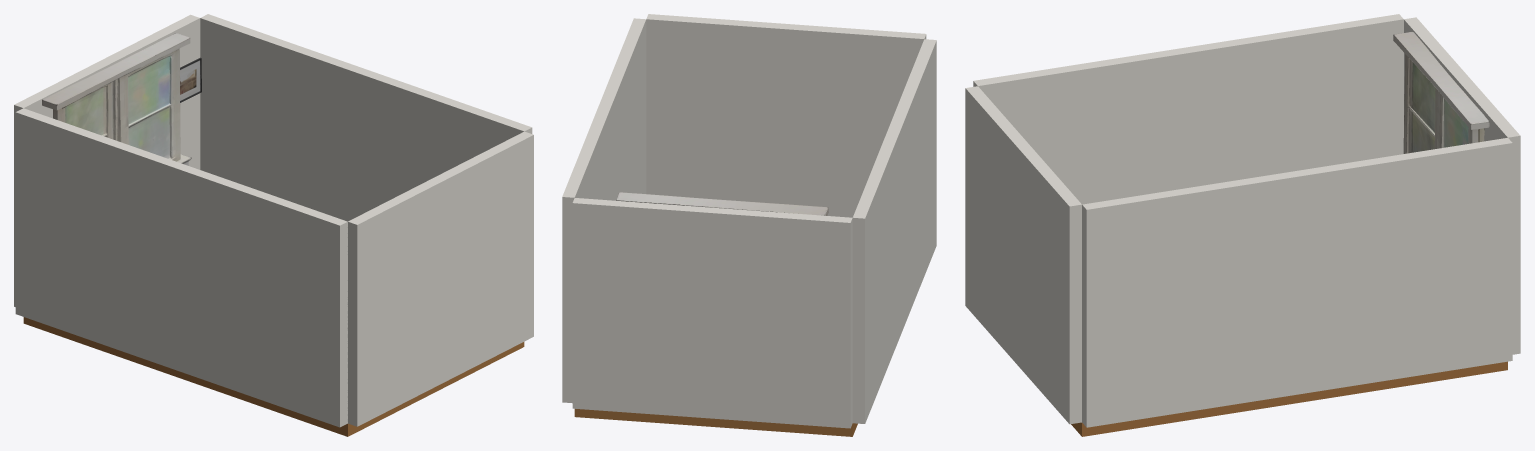
File: stage3.glb
3 views of the same model, side by side, from view 1: azimuth 30°, elevation 25°; view 2: azimuth 150°, elevation 25°; view 3: azimuth 270°, elevation 25° (orthographic). The views are drawn at different scales.
Parts seen in each view (by area): view 1: Wall_01, geometry_0.005, Floor, geometry_0.002; view 2: Wall_01, Floor, geometry_0.005; view 3: Wall_01, geometry_0.005, Floor.
Part boxes in pixels (x1,y1,x2,y2): Wall_01: (14, 14, 533, 427); geometry_0.005: (42, 33, 191, 165); Floor: (23, 317, 524, 436); geometry_0.002: (180, 57, 201, 102); Wall_01: (562, 14, 936, 428); Floor: (574, 409, 857, 436); geometry_0.005: (616, 192, 828, 215); Wall_01: (965, 14, 1520, 427); geometry_0.005: (1393, 31, 1489, 153); Floor: (1071, 361, 1507, 436).
Bounding box in the file's own units: 8.67 × 4.8 × 10.38.
Materials: 12 (10 with a texture image).
